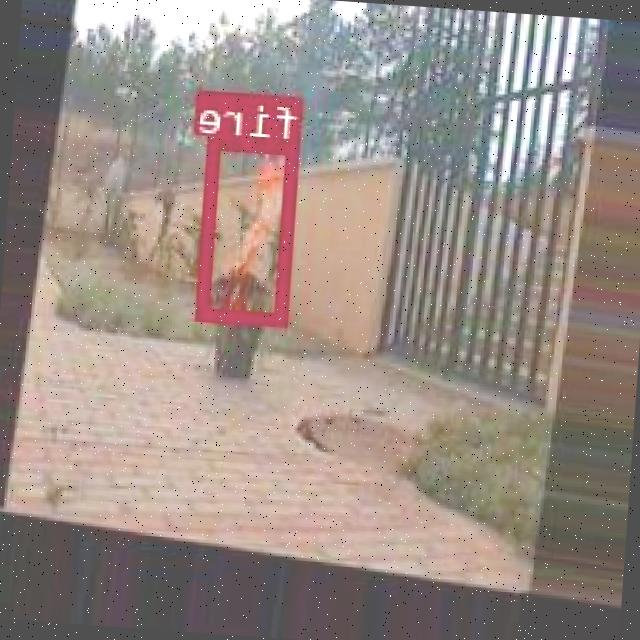fire: (200, 135, 300, 322)
